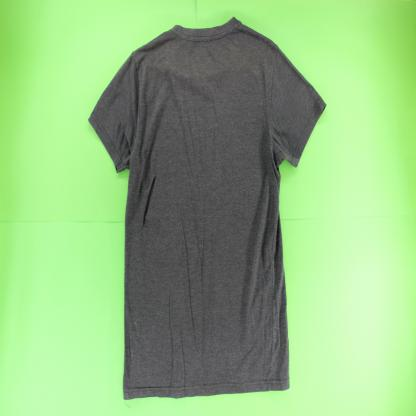hole: (141, 171, 158, 232)
